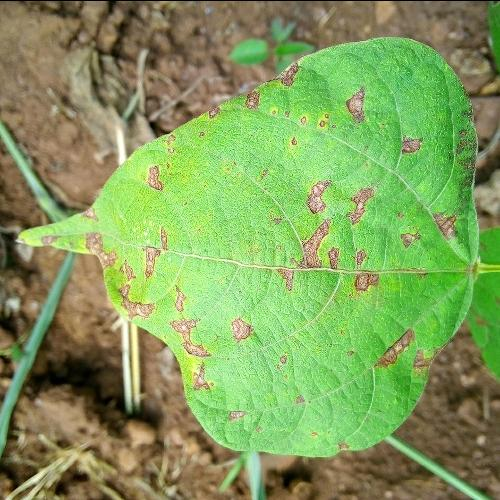hawar: (90, 84, 468, 432)
